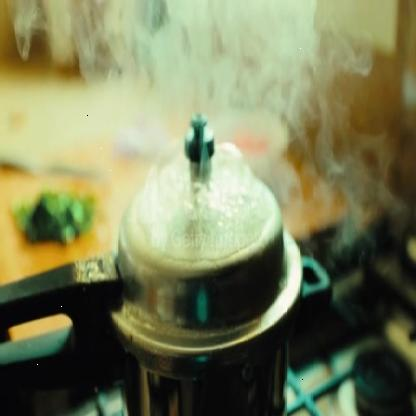smoke: (9, 0, 408, 285)
